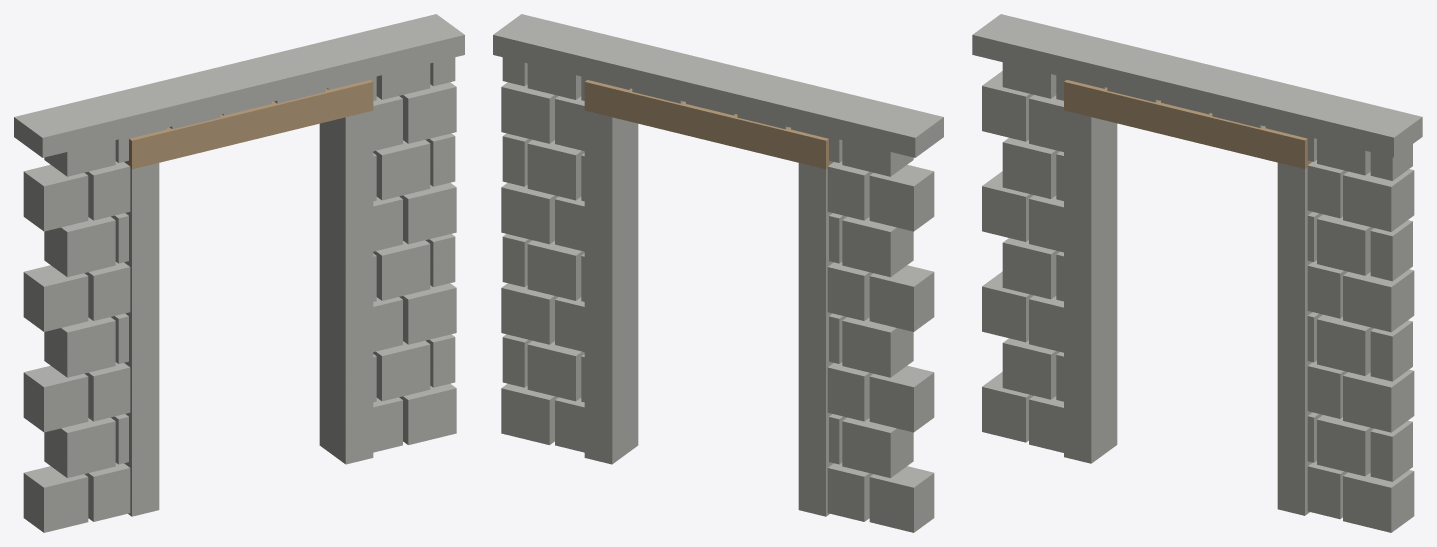
File: wipe-day-survival-island-stone-doorway-wall-8fdbdb9a__27498.glb
3 views of the same model, side by side, from view 1: azimuth 30°, elevation 25°; view 2: azimuth 150°, elevation 25°; view 3: azimuth 330°, elevation 25° (orthographic).
Parts seen in each view (by area): view 1: stone-doorway-wall; view 2: stone-doorway-wall; view 3: stone-doorway-wall.
Boxes of the visible parts, x1=… form: stone-doorway-wall: x1=14, y1=14, x2=464, y2=532; stone-doorway-wall: x1=493, y1=14, x2=943, y2=532; stone-doorway-wall: x1=972, y1=14, x2=1422, y2=532.
Bounding box in the file's own units: 3.08 × 2.8 × 0.3598.
